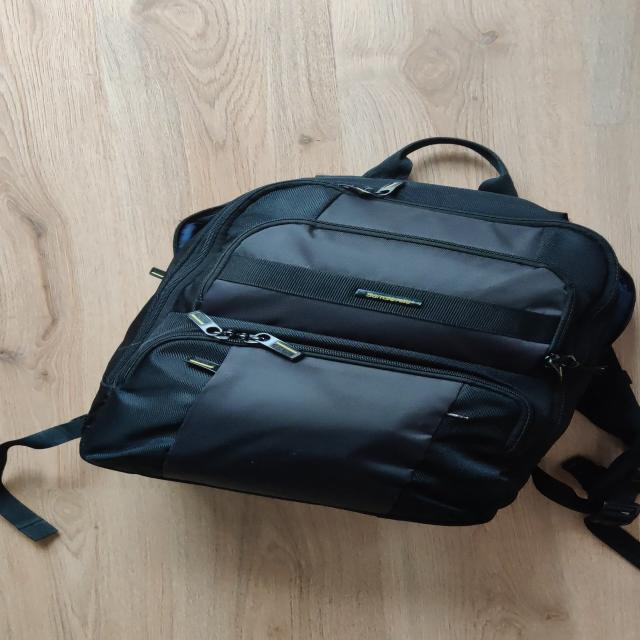backpack: (46, 137, 640, 535)
